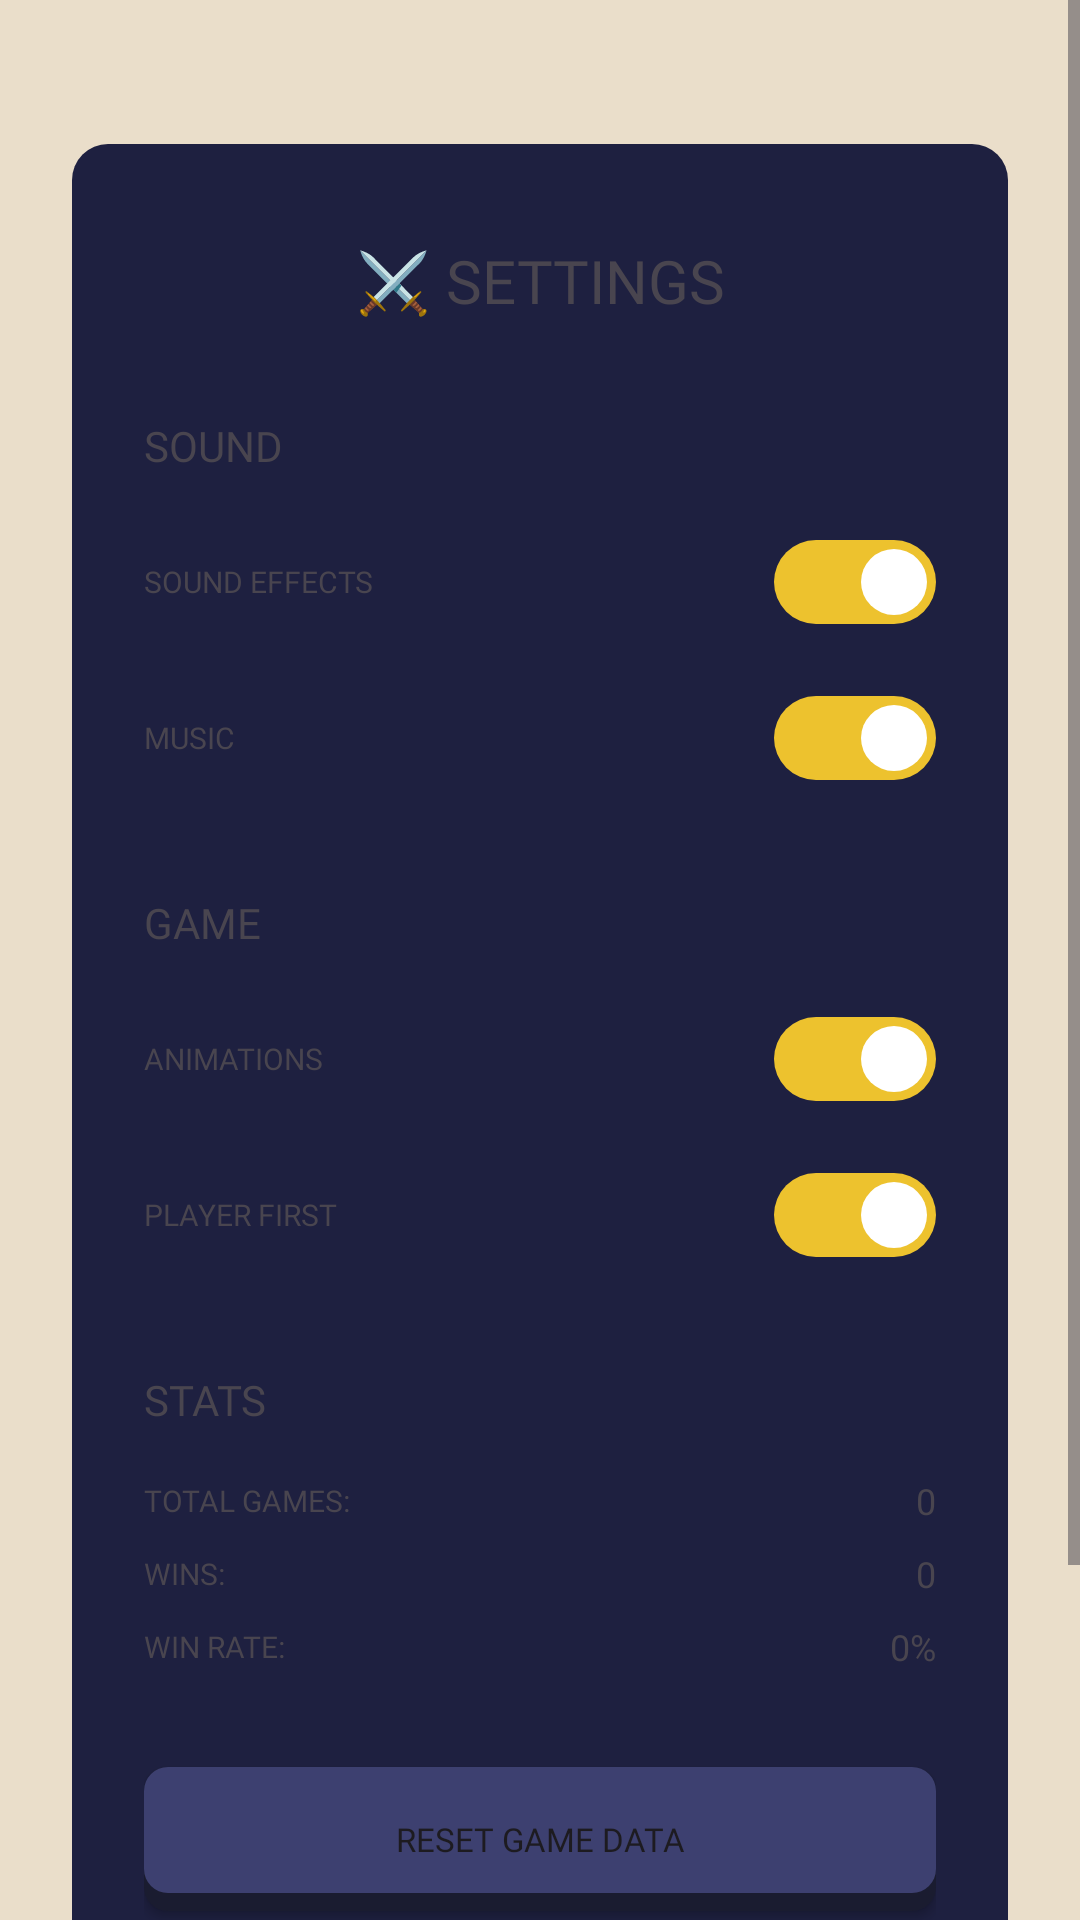

Icon bounding boxes for this 1080px×1920px phone screenshot, format (x1=x1, y1=y1, x2=x2, y2=y2):
toggle on: (x1=774, y1=540, x2=936, y2=624), (x1=774, y1=696, x2=936, y2=780), (x1=774, y1=1017, x2=936, y2=1101), (x1=774, y1=1173, x2=936, y2=1257)
